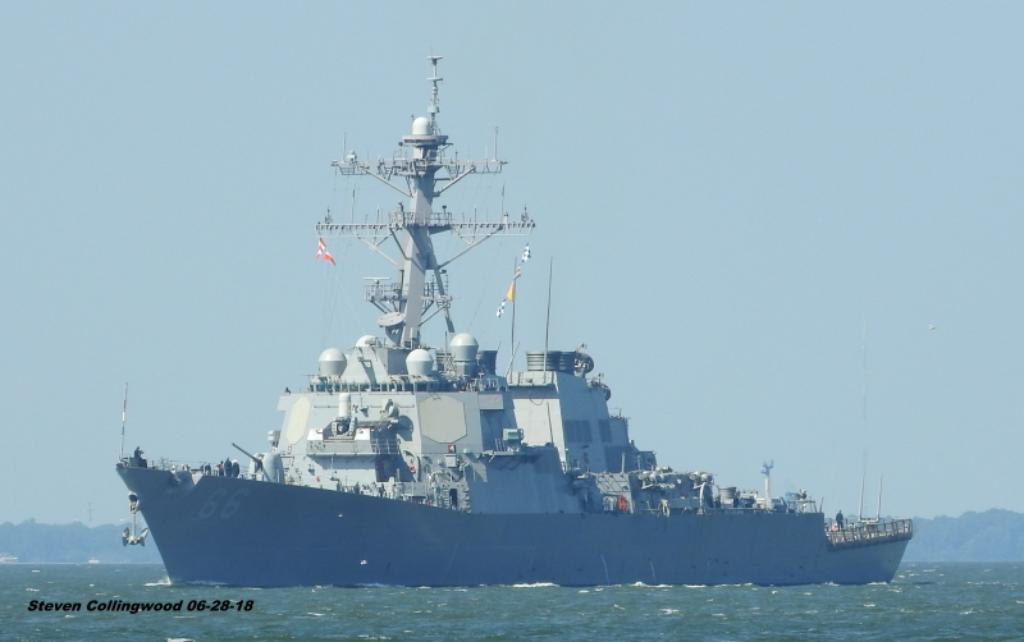Warship: (112, 45, 916, 590)
